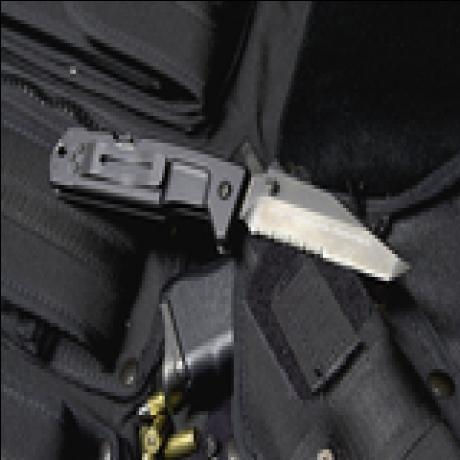weapon: (47, 113, 417, 278)
